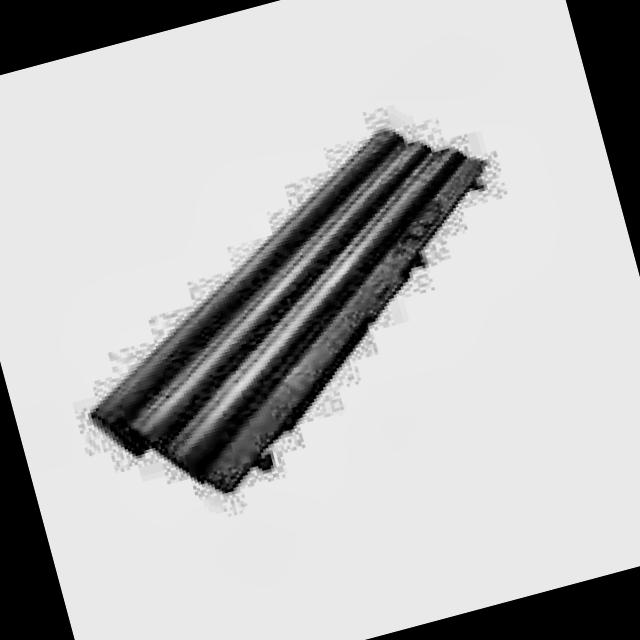Battery: (33, 108, 543, 534)
